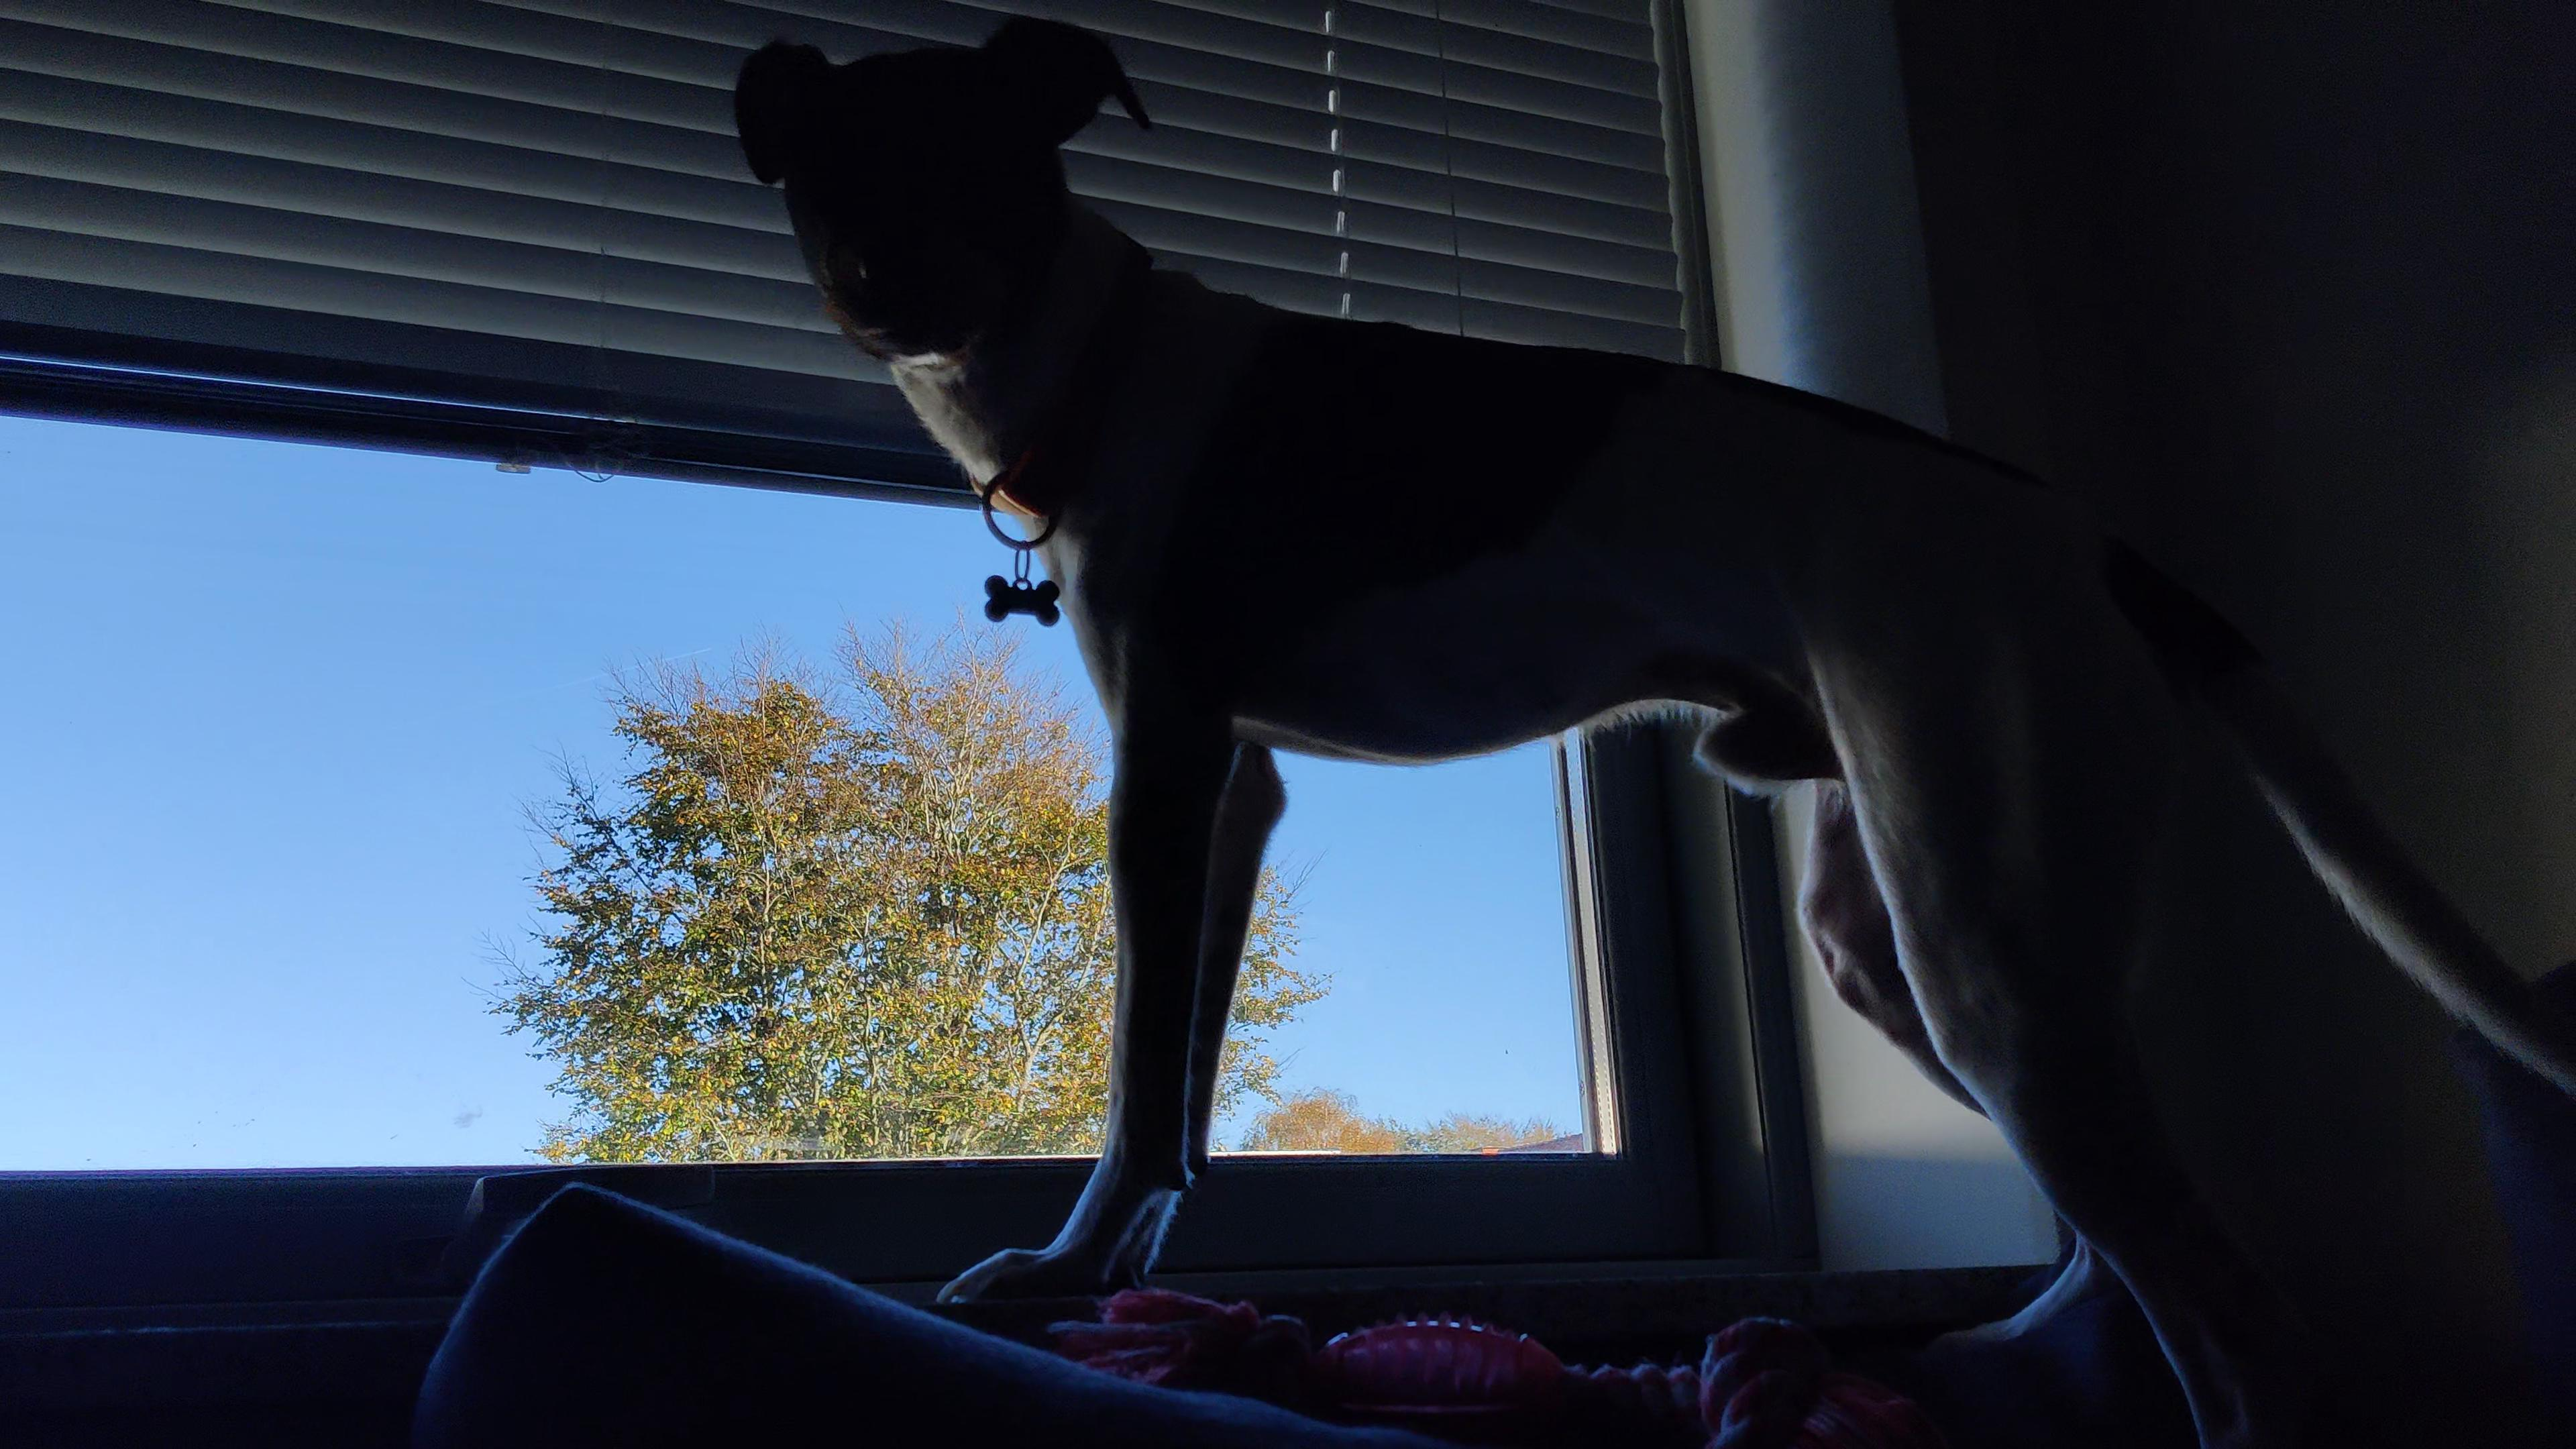Dog: (722, 9, 2576, 1449)
